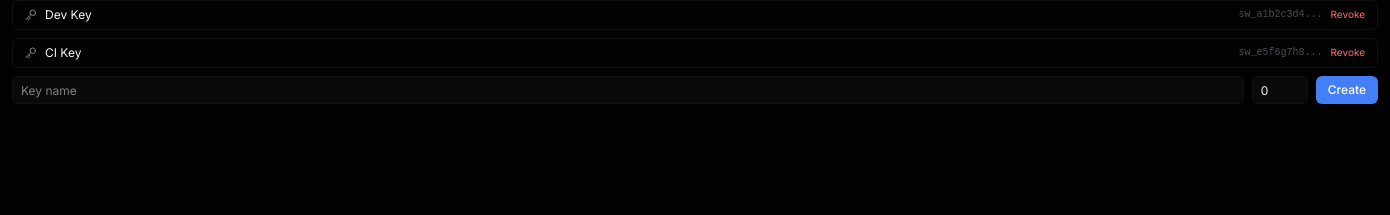
ApiKeySection › shows the newly created key in a readonly input
Expected: the text "Dev Key" is shown, [45,7,92,22]
Type "Test Key" into the field with placeholder "Key name" at [628, 90], box [12,76,1244,104]
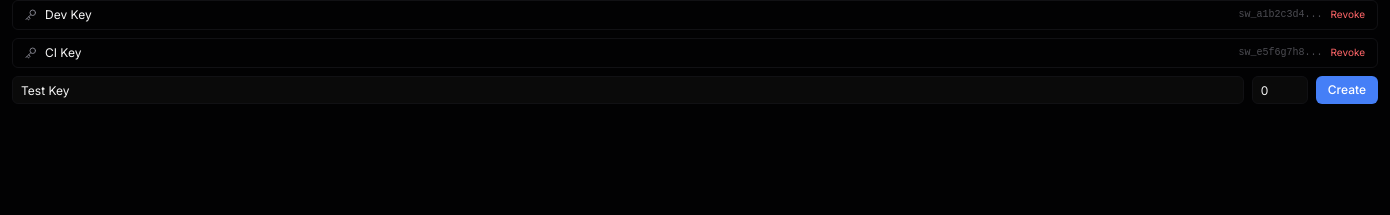
Click the button "Create" at [1347, 90], box [1316,76,1378,104]
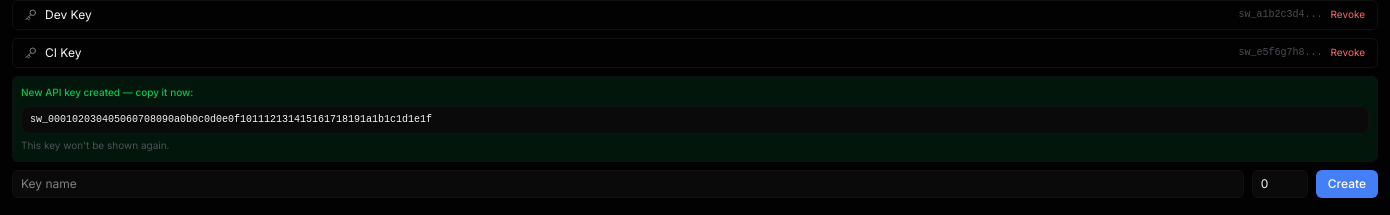
Result: the text "New API key created — copy it now:" is shown at [21,86,193,98]
Result: the field showing "sw_" is shown at [21,106,1369,134]
